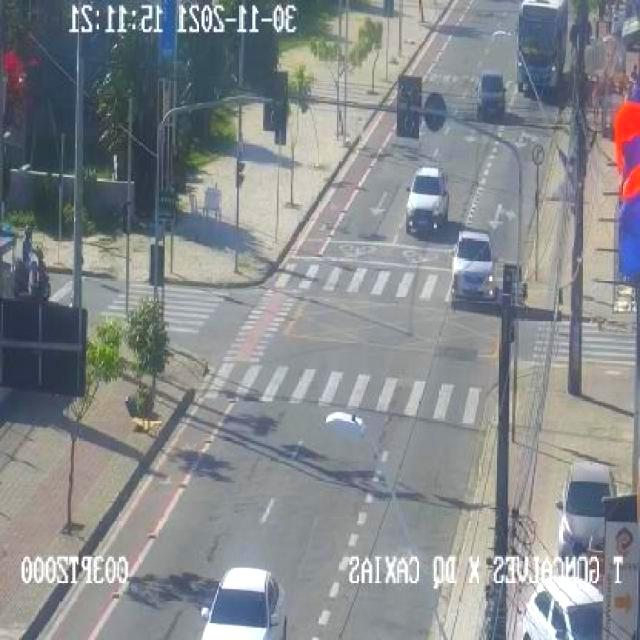Bus: (513, 0, 571, 92)
Car: (549, 472, 623, 559), (204, 566, 283, 640), (508, 580, 605, 640), (447, 220, 502, 309), (403, 166, 455, 238), (479, 70, 519, 121)
